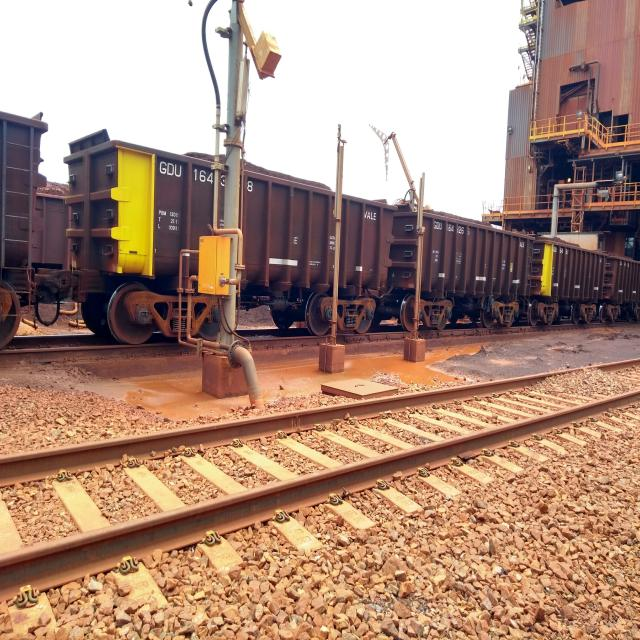gondola: (64, 124, 396, 351), (390, 193, 534, 334), (0, 99, 50, 345), (534, 226, 604, 326), (604, 248, 640, 324)
